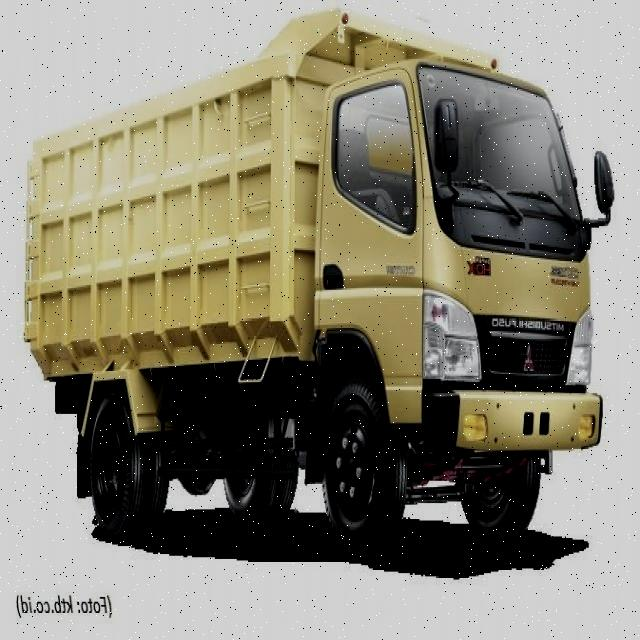truck: (22, 11, 612, 546)
